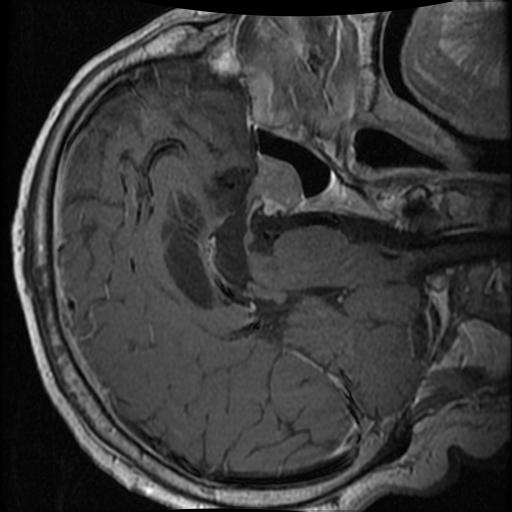pituitary tumour: (247, 151, 305, 215)
